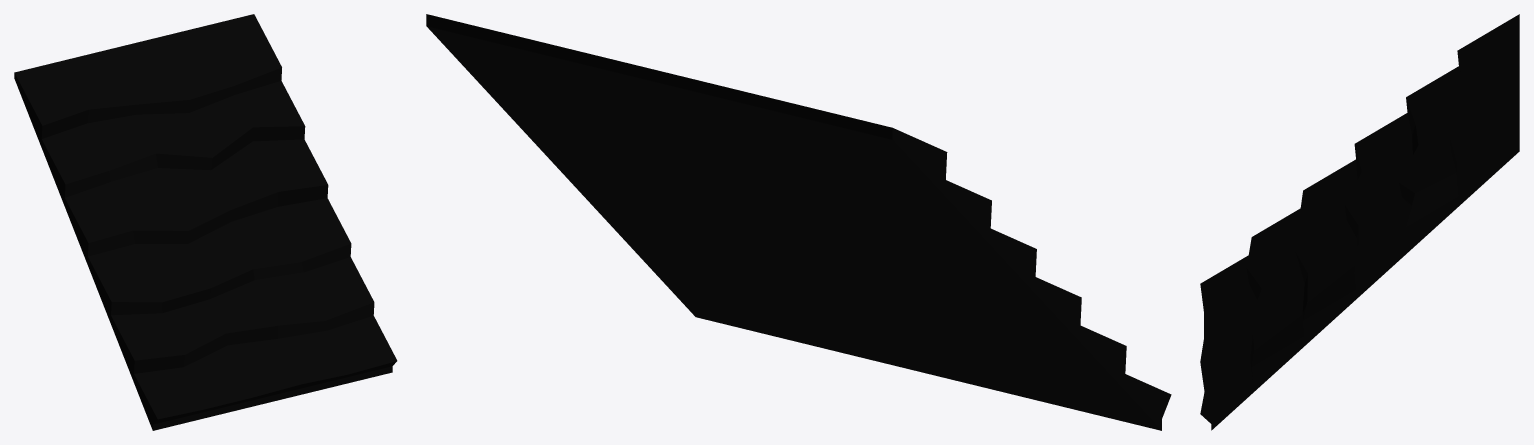
The model's file is Roof 03 Mid Angle.fbx.
3 renders of one model, left to right at view 1: azimuth 30°, elevation 25°; view 2: azimuth 150°, elevation 25°; view 3: azimuth 270°, elevation 25°, orthographic. The views are drawn at different scales.
Visible parts, largest first — view 1: Roof 01 Mid Angle.006; view 2: Roof 01 Mid Angle.006; view 3: Roof 01 Mid Angle.006.
Boxes of the visible parts, bbox=[...] form: Roof 01 Mid Angle.006: bbox=[14, 14, 397, 430]; Roof 01 Mid Angle.006: bbox=[426, 14, 1171, 430]; Roof 01 Mid Angle.006: bbox=[1200, 14, 1519, 430].
Bounding box in the file's own units: 400 × 410 × 414.
